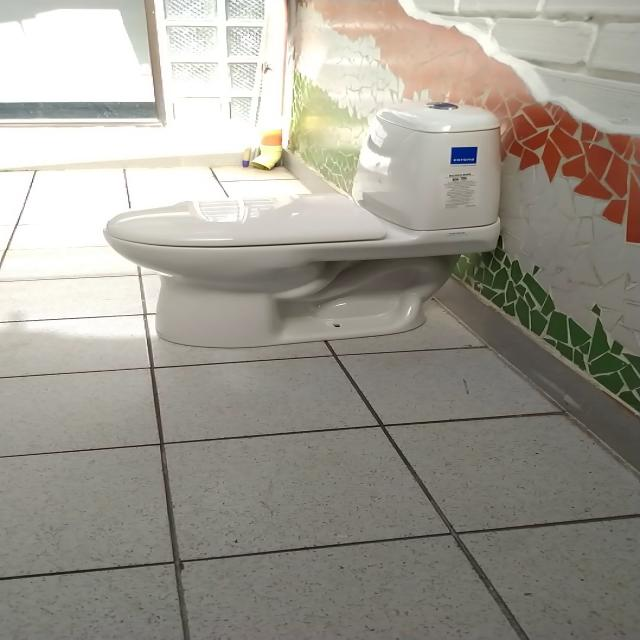toilet: (102, 100, 502, 349)
